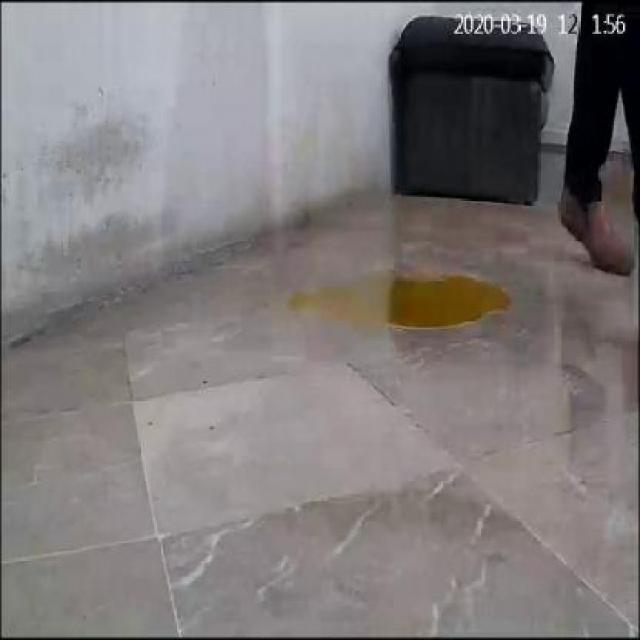spill: (282, 273, 510, 330)
